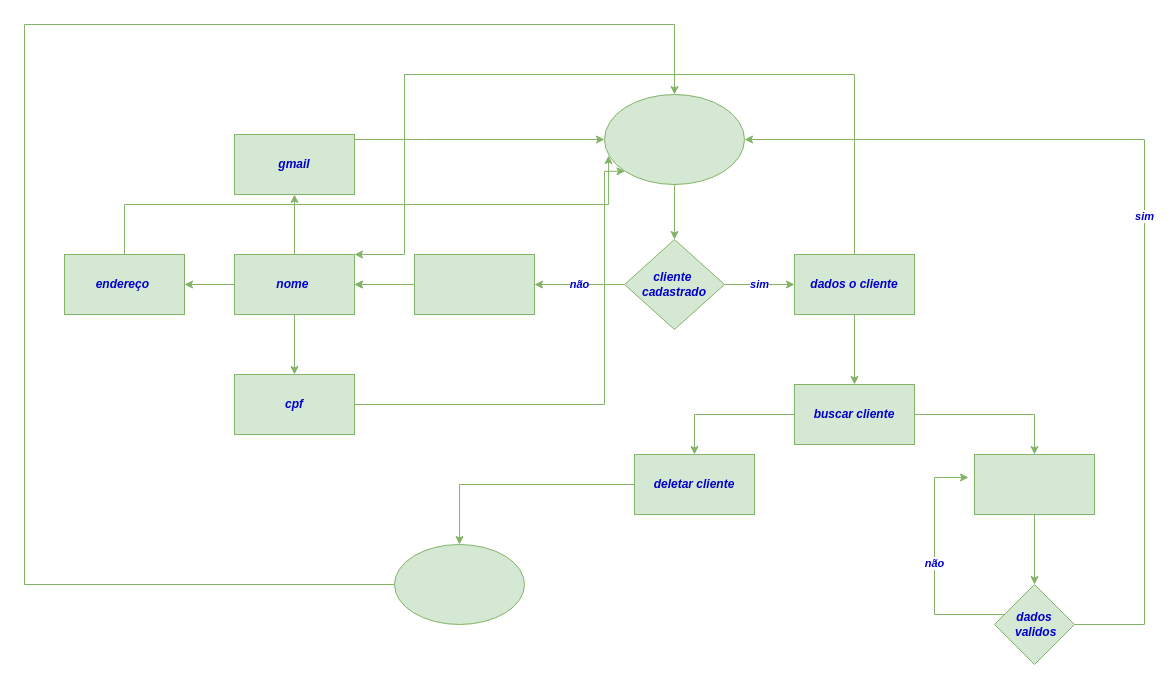
This 1171x682 diagram has some shape labels left out. The centre of each missing label's shape, as x and y in pixels:
atualizar cliente: the point at 1034,484
cadastrar cliente: the point at 474,284
fim: the point at 459,584
lista de clientes: the point at 674,139
